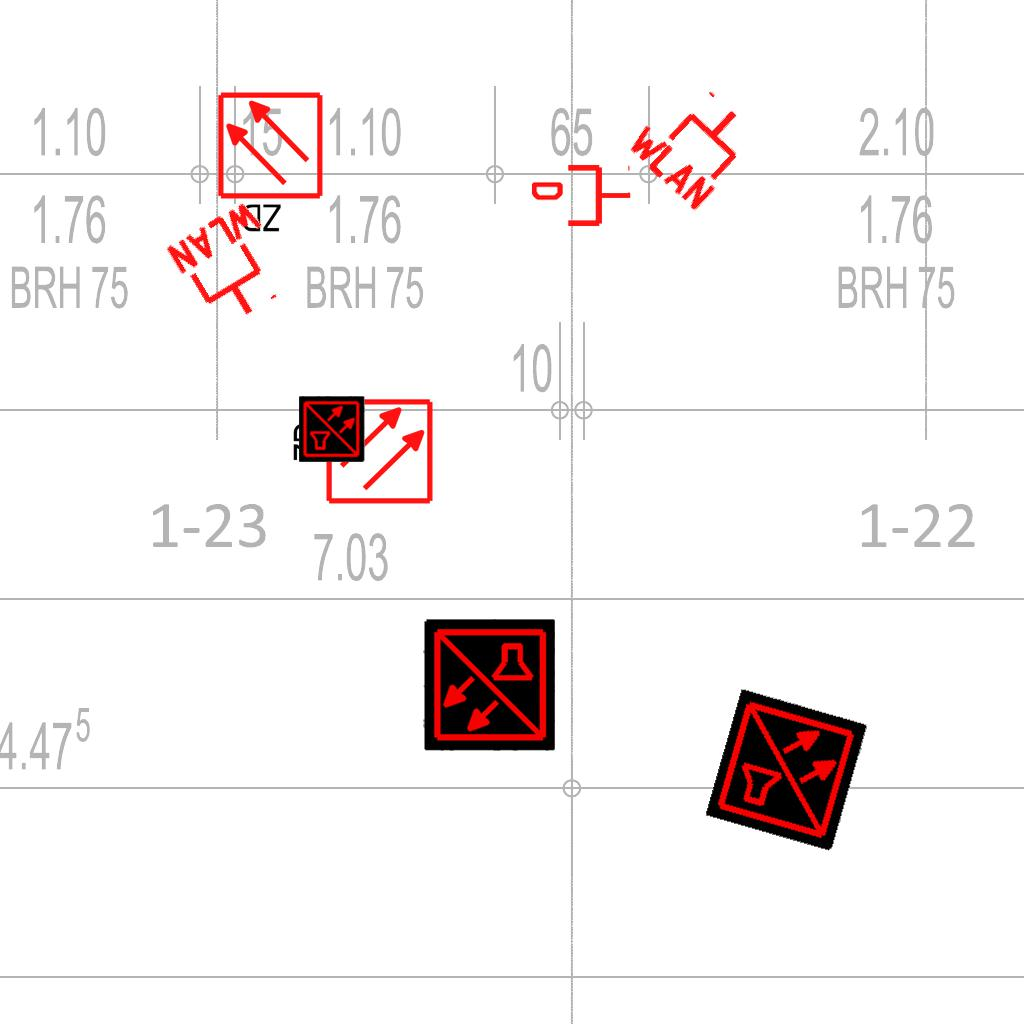Datenanschluss_einfach: (532, 161, 632, 230)
OKW_Multisensormelder_(Kombination_optischer_Rauch-Kahlenmonoxid_Waerme-Melder): (705, 688, 869, 852), (423, 619, 555, 751), (299, 396, 365, 462)
WLAN: (620, 68, 769, 216), (160, 195, 305, 339)
ZD_Melder_in_Zwischendecke_mit_Revisionsoeffnung_mind_40_x_40_cm: (215, 90, 329, 239), (286, 396, 435, 510)
